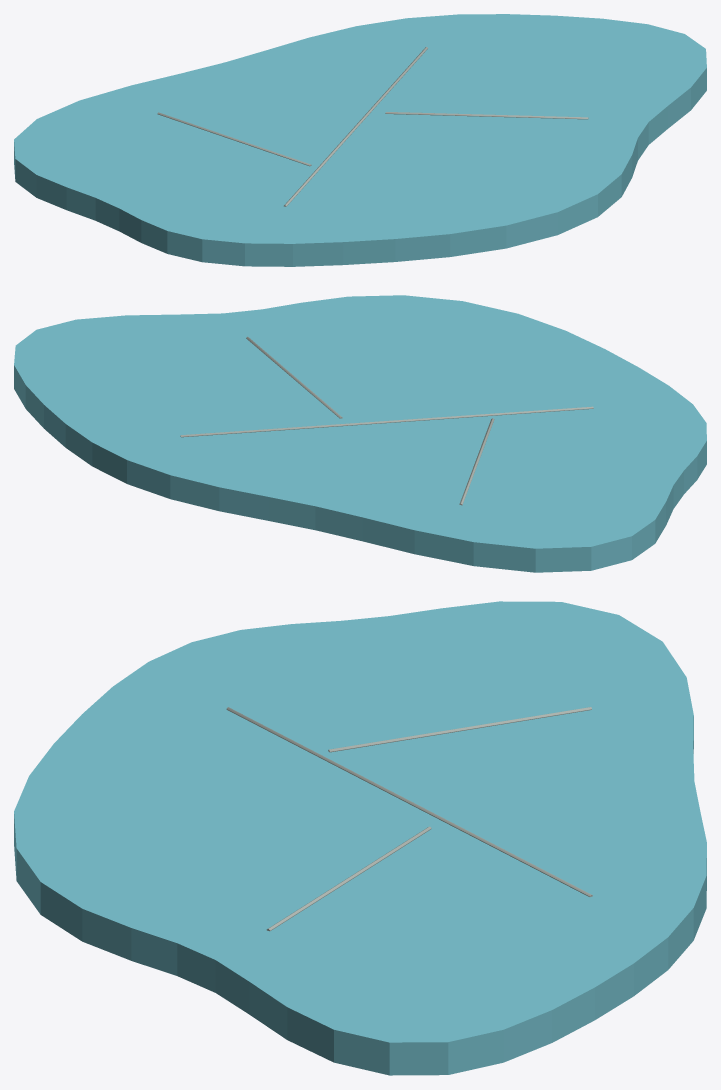
Rendered from SM_IcePuddle.fbx.
3 renders of one model, top to bottom at view 1: azimuth 30°, elevation 25°; view 2: azimuth 150°, elevation 25°; view 3: azimuth 270°, elevation 25°, orthographic. The views are drawn at different scales.
Visible parts, largest first — view 1: SM_IcePuddle; view 2: SM_IcePuddle; view 3: SM_IcePuddle.
Boxes of the visible parts, x1,y1,x2,y2 form: SM_IcePuddle: (14, 14, 706, 266); SM_IcePuddle: (14, 295, 706, 572); SM_IcePuddle: (14, 601, 706, 1075).
Size of what is drawn, in the model's own units: 2.59 by 1.72 by 0.0958.
